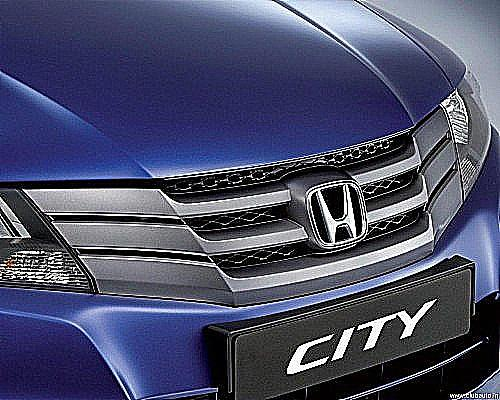Car hood: (0, 0, 472, 195)
Front bumper: (0, 123, 500, 400)
Headlight - -L-: (440, 63, 493, 211)
Headlight - -R-: (0, 185, 99, 298)
